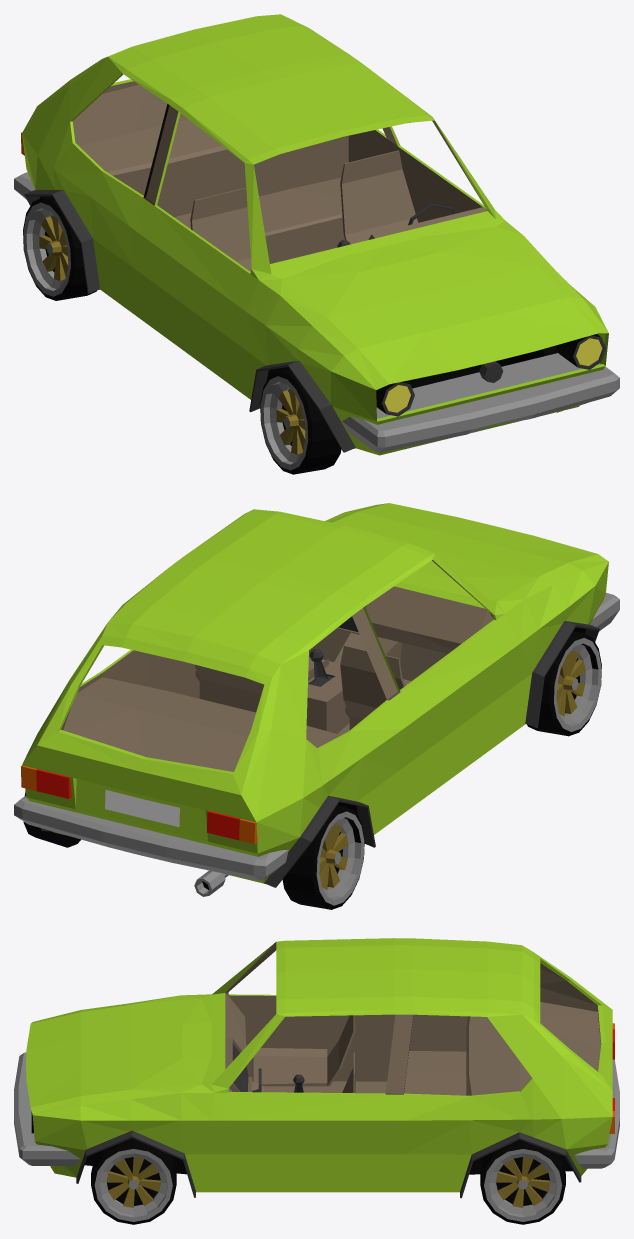
File: volkswagen_golf_mk.i_low_poly.glb
3 views of the same model, one above another, from view 1: azimuth 30°, elevation 25°; view 2: azimuth 150°, elevation 25°; view 3: azimuth 270°, elevation 25° (orthographic). The views are drawn at different scales.
Parts seen in each view (by area): view 1: Body_2, Body3_5, Body.001_3, WheelFR_12, WheelR_13, Body2_4, Body6_8; view 2: Body_2, Body4_6, WheelR_13, Body.001_3, WheelFR_12, Body2_4, Body5_7, Body3_5, Exhaust_10; view 3: Body_2, WheelFL_11, WheelR_13, Body.001_3, Body3_5, Body2_4, Body4_6.
Boxes of the visible parts, x1=… form: Body_2: x1=22, y1=14, x2=608, y2=455; Body3_5: x1=342, y1=353, x2=619, y2=452; Body.001_3: x1=190, y1=150, x2=418, y2=271; WheelFR_12: x1=260, y1=369, x2=341, y2=474; WheelR_13: x1=23, y1=196, x2=96, y2=300; Body2_4: x1=24, y1=190, x2=355, y2=452; Body6_8: x1=376, y1=334, x2=606, y2=416; Body_2: x1=22, y1=503, x2=608, y2=883; Body4_6: x1=14, y1=796, x2=288, y2=880; WheelR_13: x1=23, y1=791, x2=364, y2=909; Body.001_3: x1=194, y1=645, x2=407, y2=730; WheelFR_12: x1=527, y1=631, x2=601, y2=736; Body2_4: x1=41, y1=621, x2=599, y2=887; Body5_7: x1=21, y1=765, x2=257, y2=844; Body3_5: x1=590, y1=592, x2=619, y2=631; Exhaust_10: x1=194, y1=870, x2=228, y2=896; Body_2: x1=26, y1=938, x2=612, y2=1192; WheelFL_11: x1=91, y1=1138, x2=176, y2=1224; WheelR_13: x1=480, y1=1139, x2=565, y2=1224; Body.001_3: x1=250, y1=1015, x2=355, y2=1092; Body3_5: x1=14, y1=1052, x2=80, y2=1165; Body2_4: x1=76, y1=1130, x2=581, y2=1198; Body4_6: x1=574, y1=1059, x2=619, y2=1168.
Bounding box in the file's own units: 1.9 × 1.47 × 4.06.
